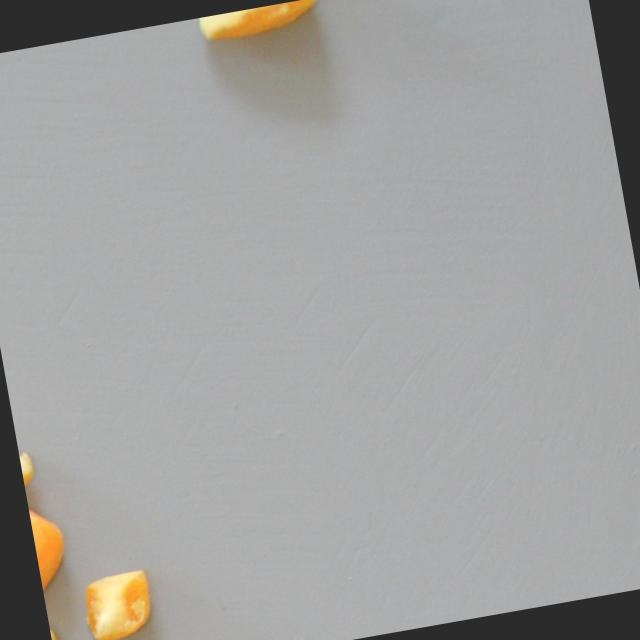pelicula: (195, 0, 324, 48), (77, 566, 156, 640), (27, 494, 76, 601)
